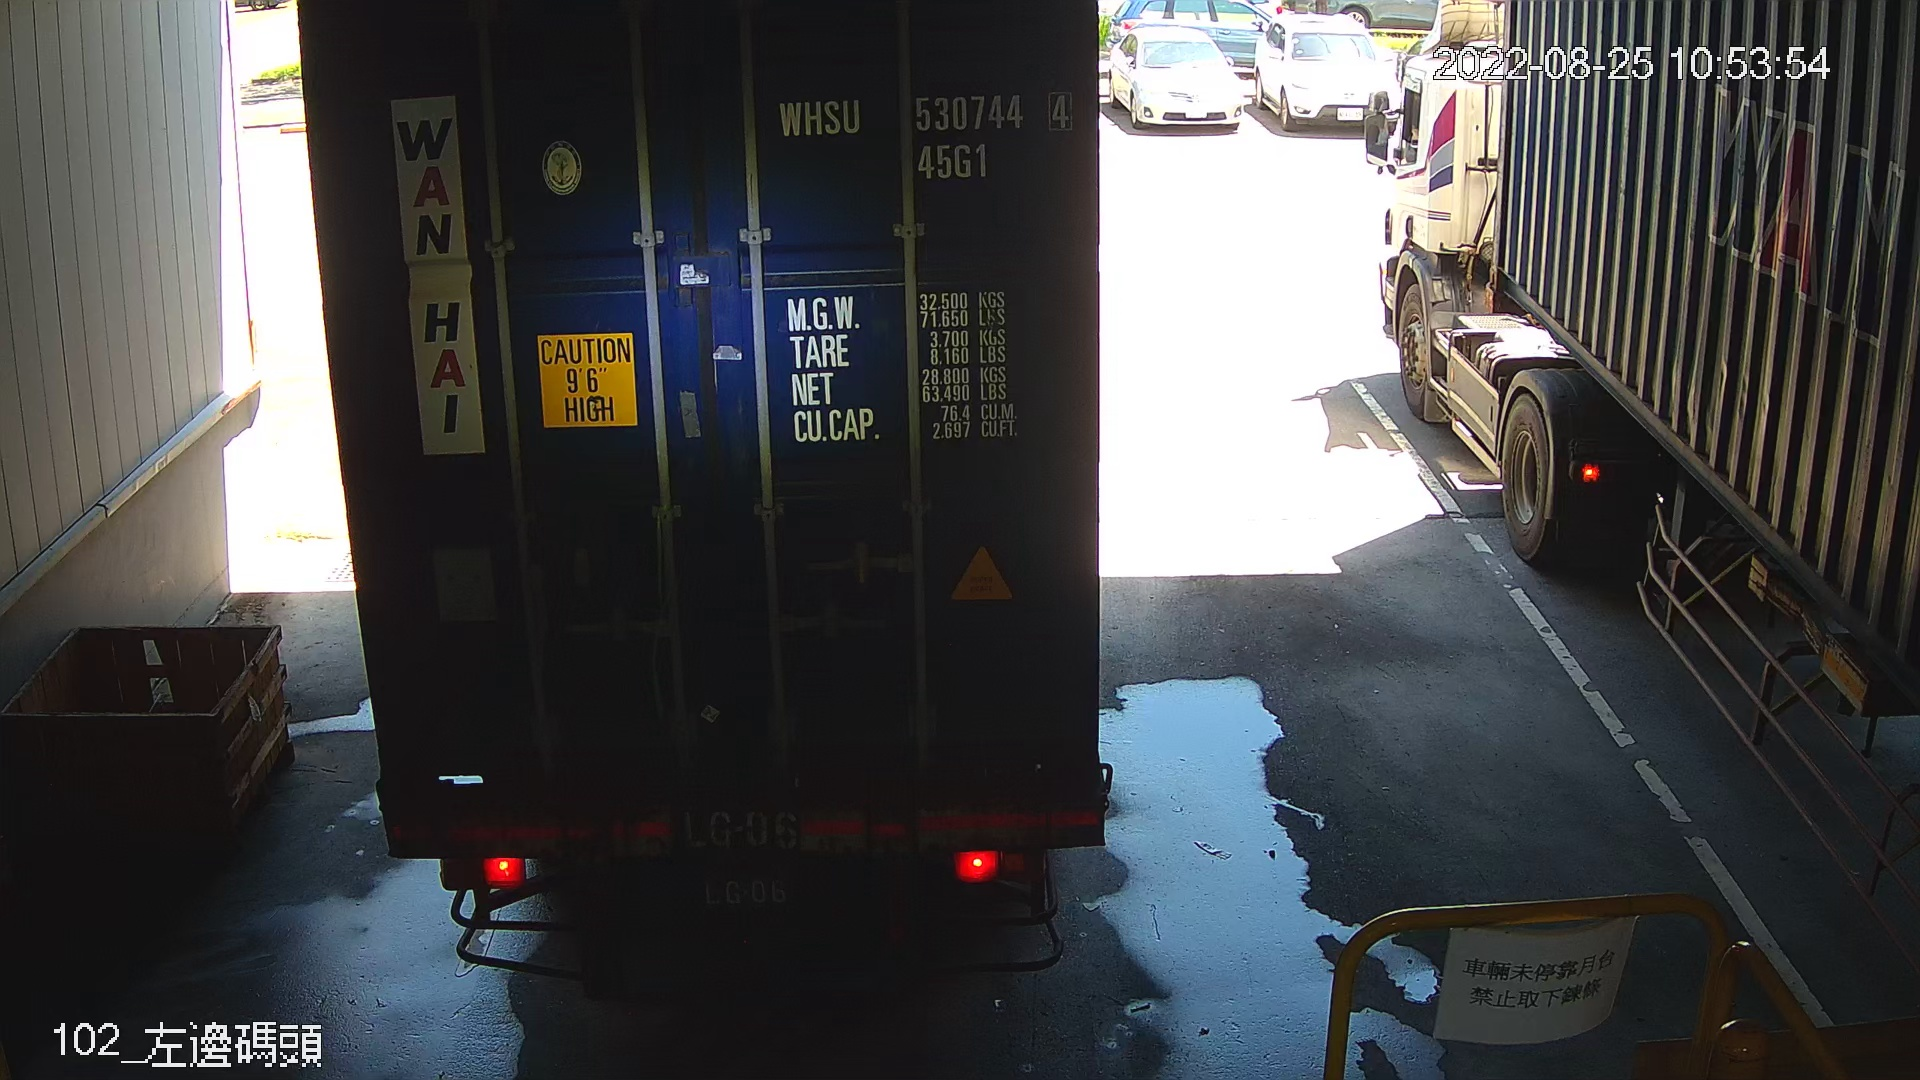container: (764, 80, 1087, 194)
